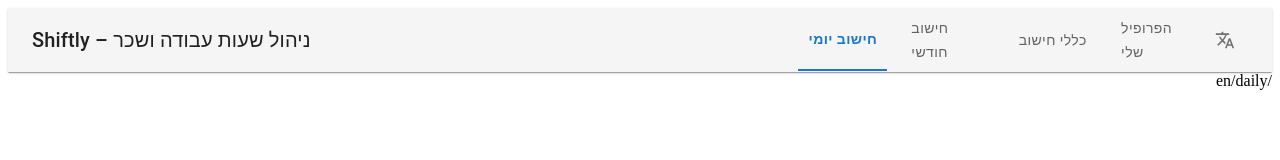
Scenario: ViewSwitcher › Language toggle › keeps the page when toggling from ltr at /en/daily
Click the button named "עבור לעברית" at (1225, 40), box [1210,25,1240,55]
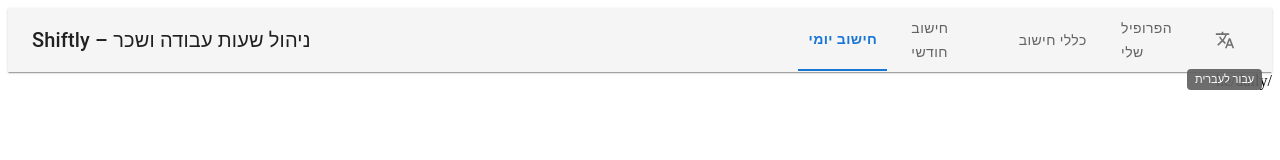
Now the text with test id "location" reads "/he/daily", box [1216,72,1272,89]
